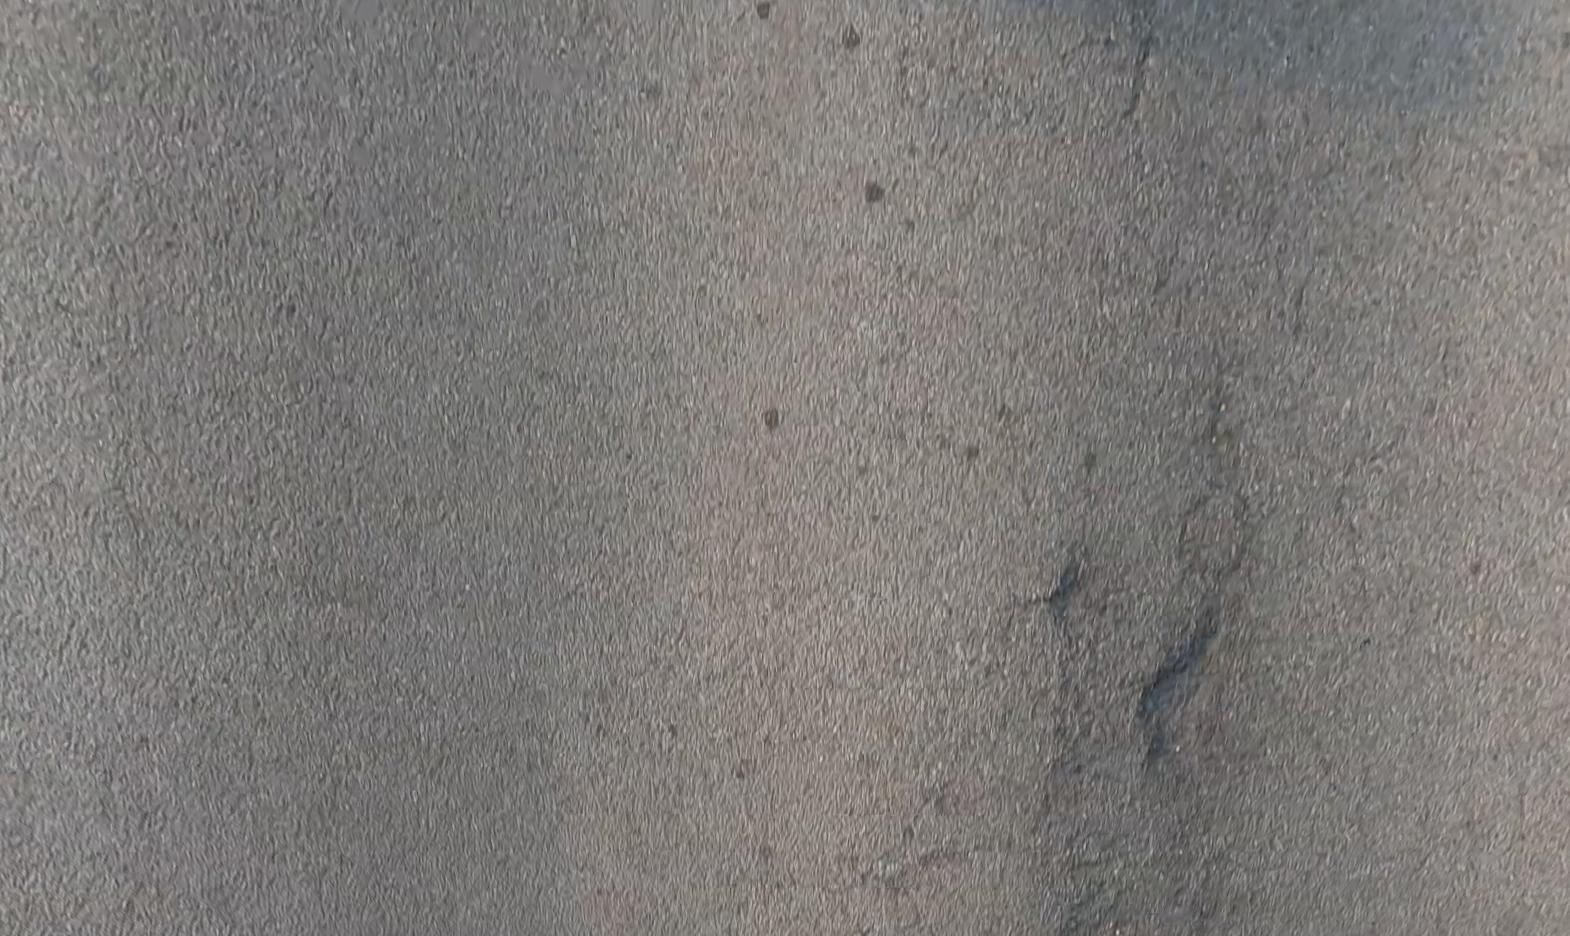pothole: (1131, 610, 1232, 735), (1037, 558, 1082, 626)
